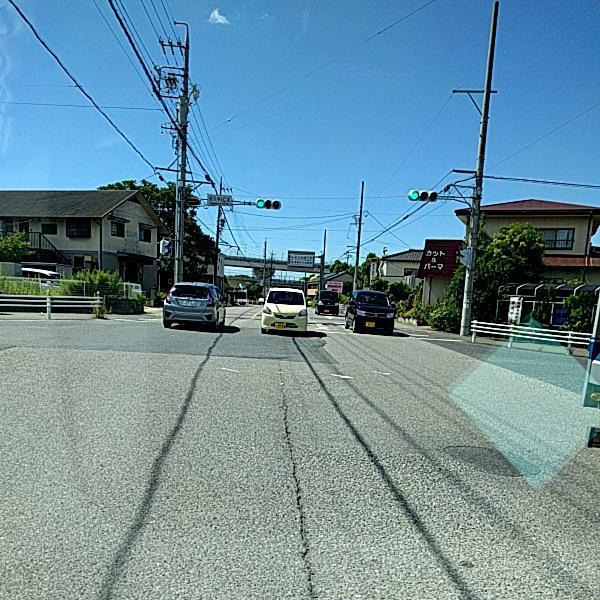D00: (274, 358, 327, 599)
